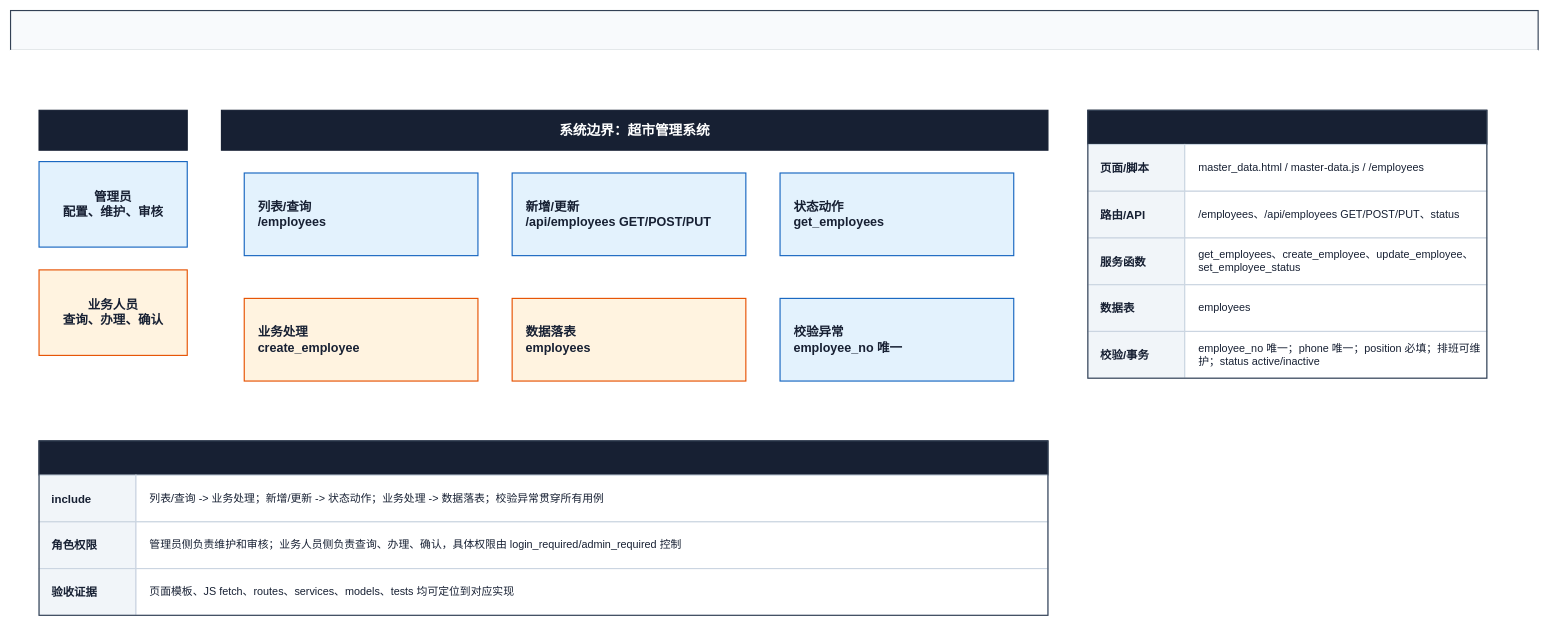
This 1548x625 diagram has some shape labels left out. The box of each missing label's shape, as (x1, y1, x2, y2) in pixels:
员工管理用例图: (10, 10, 1538, 51)
实现明细: (1087, 109, 1487, 145)
模块级用例矩阵｜角色｜用例｜实现入口｜校验点: (10, 50, 1538, 74)
用例依赖: (38, 440, 1048, 475)
角色: (38, 109, 188, 150)
